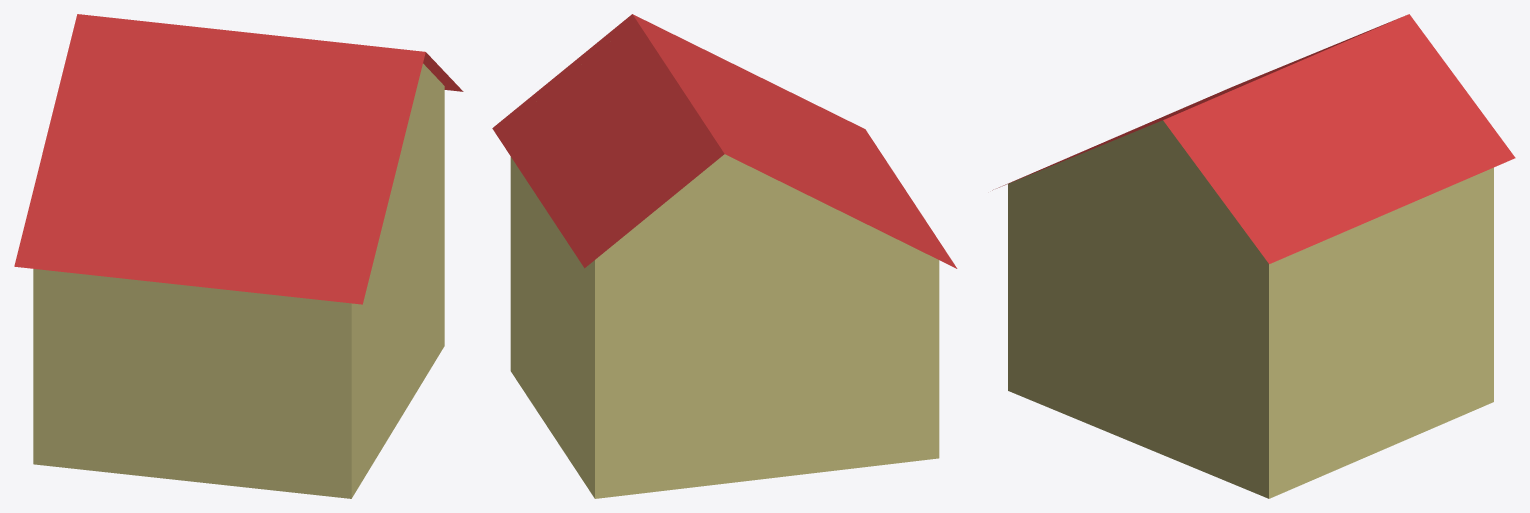
3 views of the same model, side by side, from view 1: azimuth 30°, elevation 25°; view 2: azimuth 150°, elevation 25°; view 3: azimuth 270°, elevation 25° (orthographic). The views are drawn at different scales.
Bounding box in the file's own units: 17.31 × 17.33 × 12.42.
